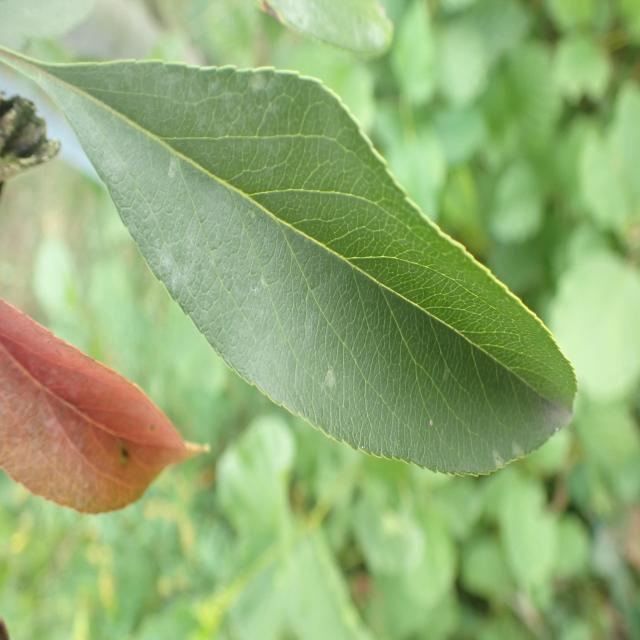Powdery_mildew: (95, 37, 573, 464)
